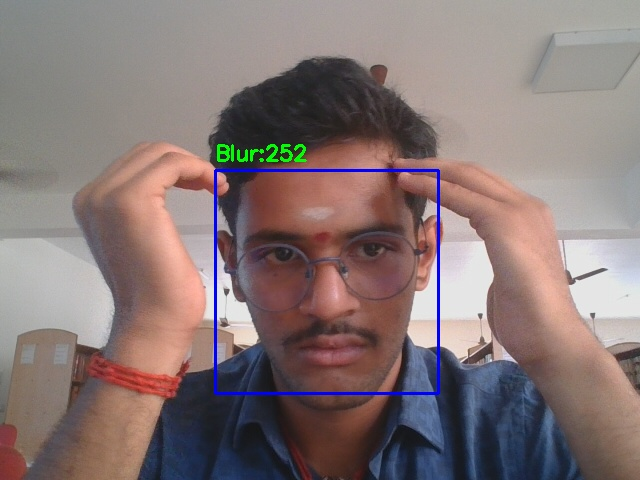real: (215, 170, 438, 393)
